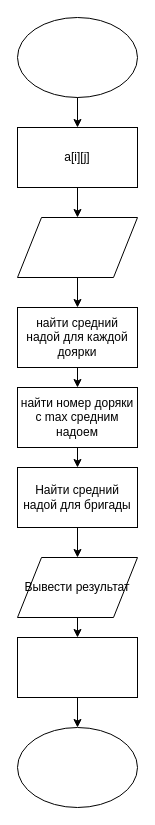
Some shapes in this 155 by 825 pixel diagram are drawn without their labels. The shapes that lost their labels are listed below. From the top down, each one's centre as x and y in pixels, then its label:
At pixel 77 247: "ввод a[i][j]".
At pixel 77 667: "Удалить матрицу".
